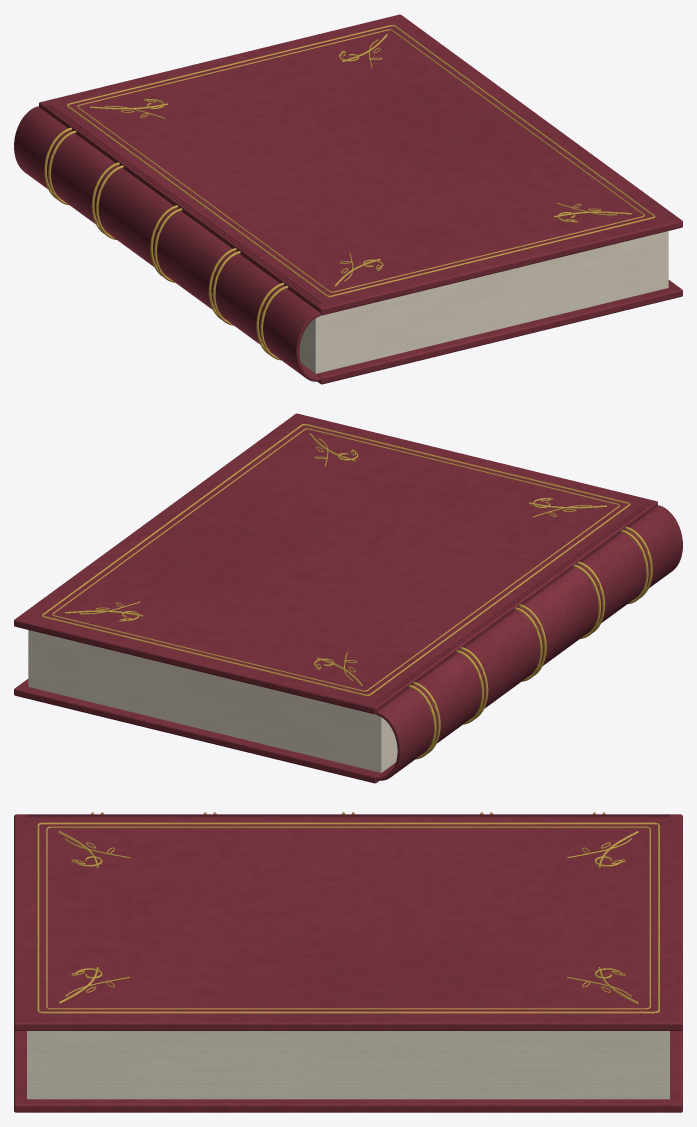
Rendered from book.glb.
3 views of the same model, one above another, from view 1: azimuth 30°, elevation 25°; view 2: azimuth 150°, elevation 25°; view 3: azimuth 270°, elevation 25° (orthographic). The views are drawn at different scales.
Parts seen in each view (by area): view 1: Cover_Front, Spine, PageBlock, Cover_Back; view 2: Cover_Front, Spine, PageBlock, Cover_Back; view 3: Cover_Front, PageBlock, Cover_Back.
Part boxes in pixels (x1,y1,x2,y2): Cover_Front: (39, 14, 682, 315); Spine: (14, 106, 320, 381); PageBlock: (299, 231, 668, 373); Cover_Back: (301, 280, 682, 384); Cover_Front: (14, 413, 657, 714); Spine: (376, 505, 682, 780); PageBlock: (28, 630, 397, 772); Cover_Back: (14, 679, 395, 783); Cover_Front: (14, 814, 682, 1030); PageBlock: (27, 1031, 669, 1099); Cover_Back: (14, 1030, 682, 1112).
Size of the model in its own units: 0.1656 by 0.0315 by 0.208.
Materials: 5 (4 with a texture image).
